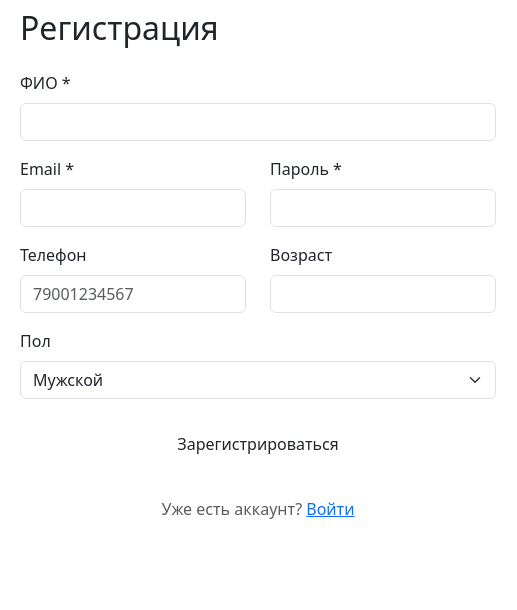
Test: RegisterPage › 2. должен показывать ошибку, если пароль короче 6 символов
// Заполняем обязательные поля
Type "Иванов Иван" into the field labelled "ФИО *" at (258, 122), box 20,103 -> 496,141
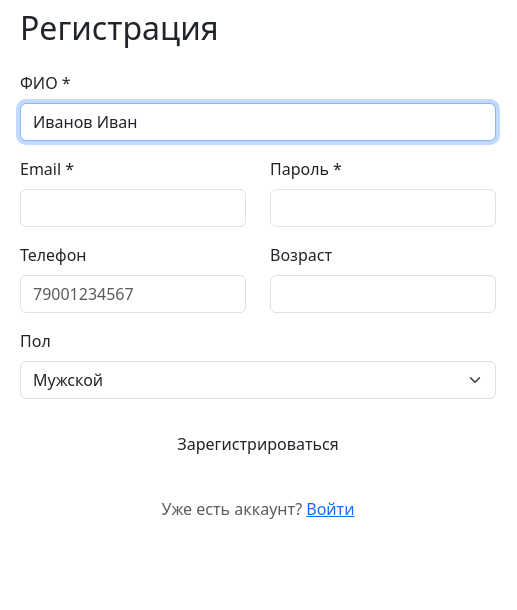
Type "test@test.com" into the field labelled "Email *" at (133, 208), box 20,189 -> 246,227
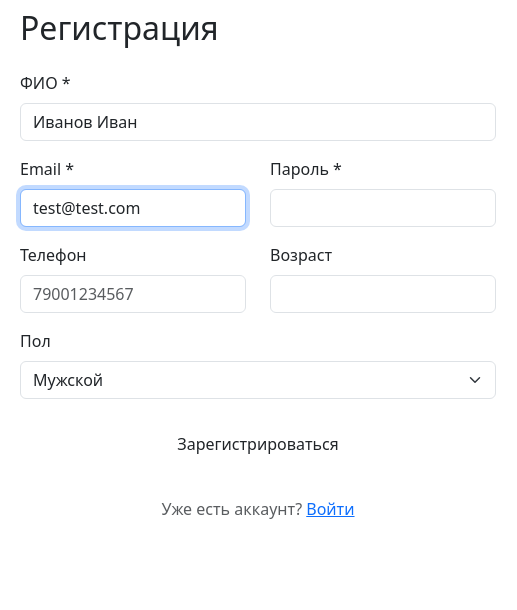
Type "123" into the password field labelled "Пароль *" at (383, 208), box 270,189 -> 496,227
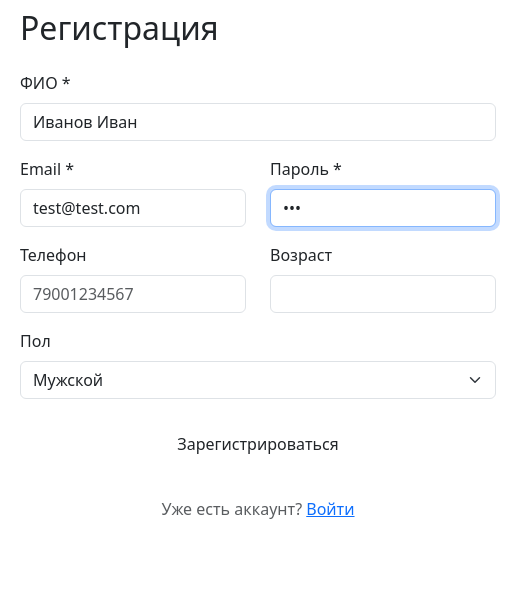
// Нажимаем кнопку
Click the button "Зарегистрироваться" at (258, 444), box 20,423 -> 496,465
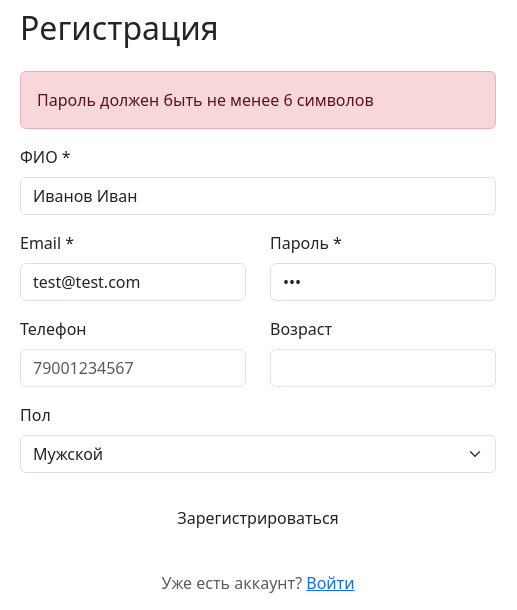
Expected: the text "Пароль должен быть не менее 6 символов" is shown, 20,71 -> 496,129
